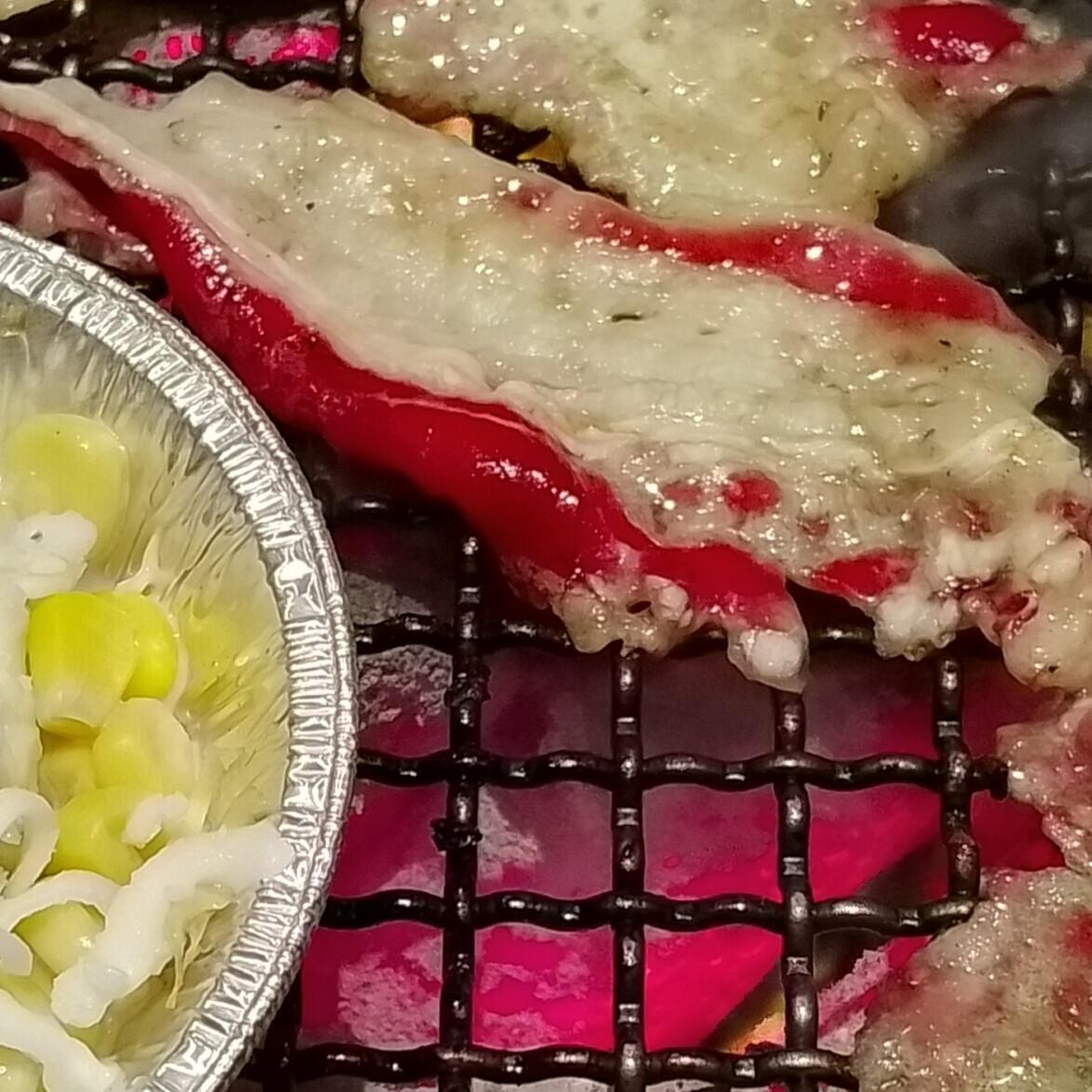Undercooked: (0, 75, 1091, 689), (362, 0, 1091, 227)
